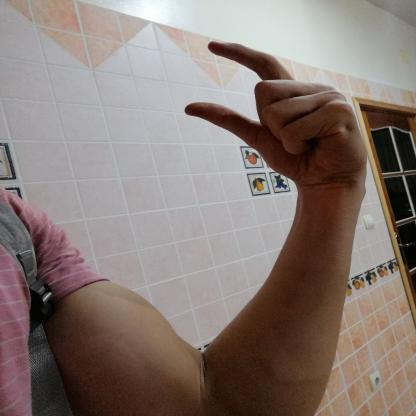DELL: (164, 30, 382, 196)
